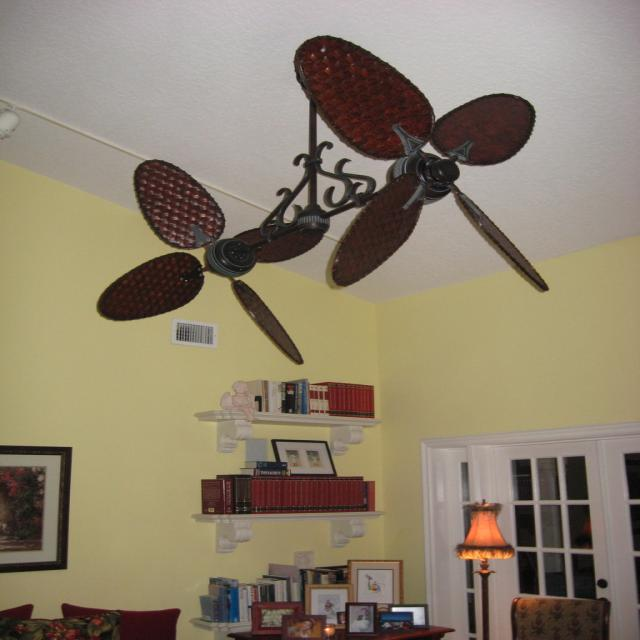Bulb: (296, 33, 550, 304), (95, 158, 326, 366)
